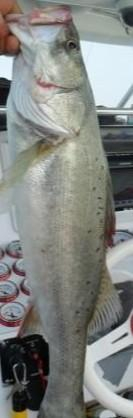fish: (0, 2, 121, 417)
